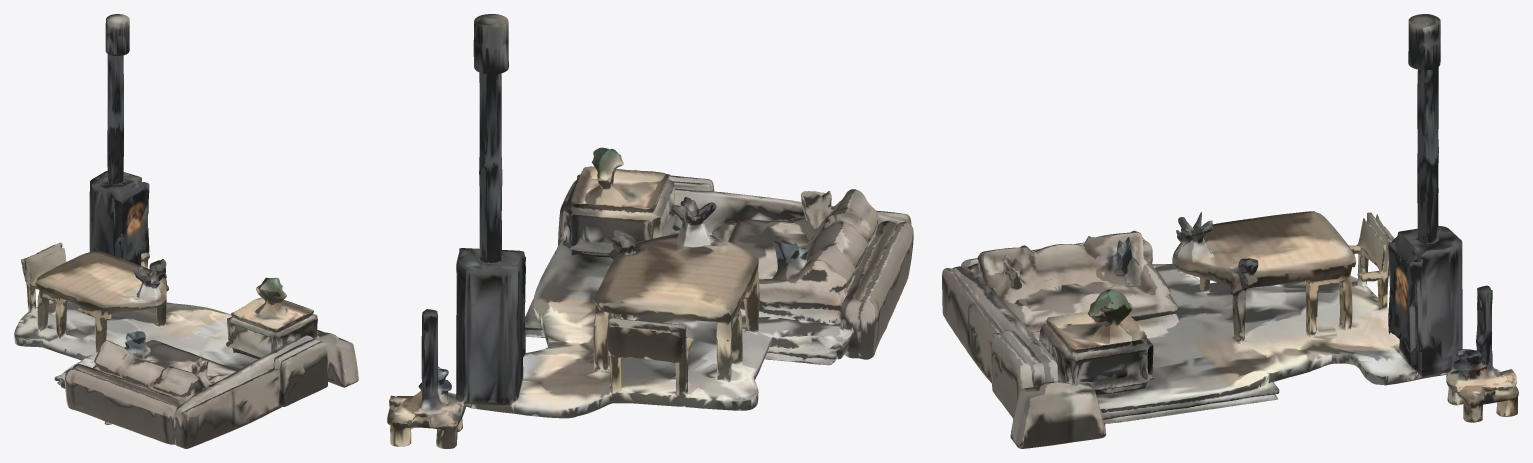
File: room-living.glb
3 views of the same model, side by side, from view 1: azimuth 30°, elevation 25°; view 2: azimuth 150°, elevation 25°; view 3: azimuth 270°, elevation 25° (orthographic). The views are drawn at different scales.
Visible parts, largest first — view 1: room-living; view 2: room-living; view 3: room-living.
Part boxes in pixels (x1,y1,x2,y2): room-living: [14, 14, 358, 448]; room-living: [387, 14, 913, 448]; room-living: [942, 14, 1518, 448].
Size of the model in its own units: 0.1368 by 0.1458 by 0.2038.
Materials: 1 (1 with a texture image).
